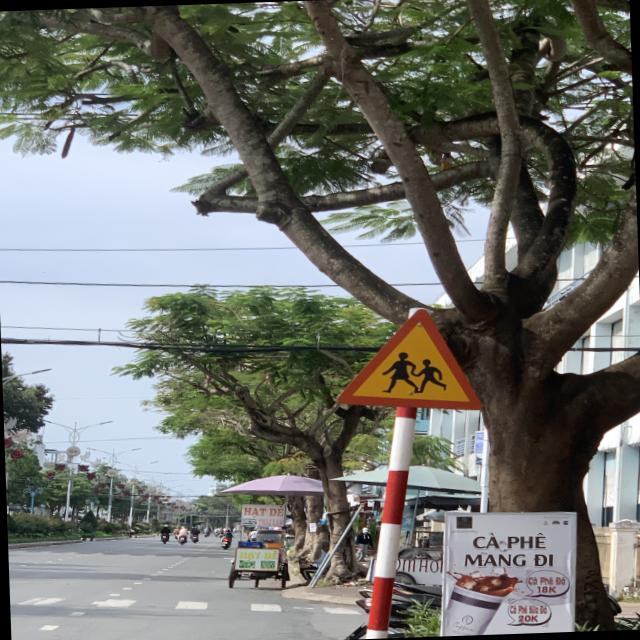Vong_Xuyen: (331, 306, 487, 414)
